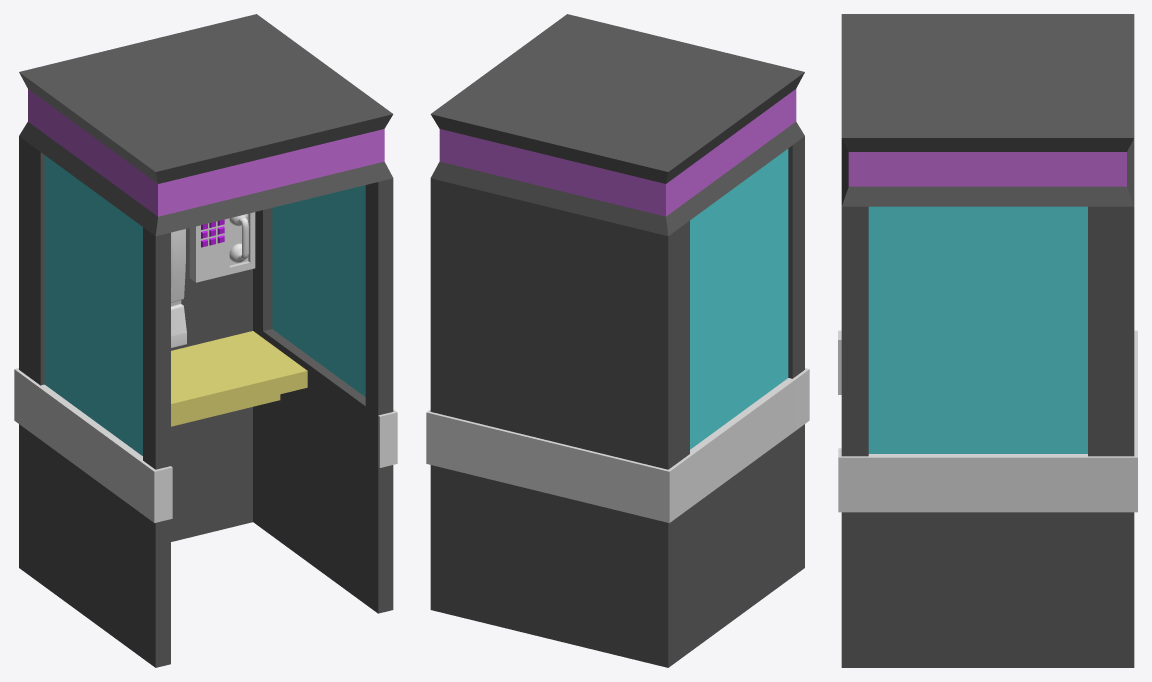
Rendered from CabinaTelv03.fbx.
3 views of the same model, side by side, from view 1: azimuth 30°, elevation 25°; view 2: azimuth 150°, elevation 25°; view 3: azimuth 270°, elevation 25° (orthographic). The views are drawn at different scales.
Visible parts, largest first — view 1: Bancomat; view 2: Bancomat; view 3: Bancomat.
Part boxes in pixels (box(x1,y1,x2,y2)): Bancomat: box(14, 14, 397, 667); Bancomat: box(426, 14, 809, 667); Bancomat: box(838, 14, 1137, 667).
Bounding box in the file's own units: 128 × 250 × 128.
